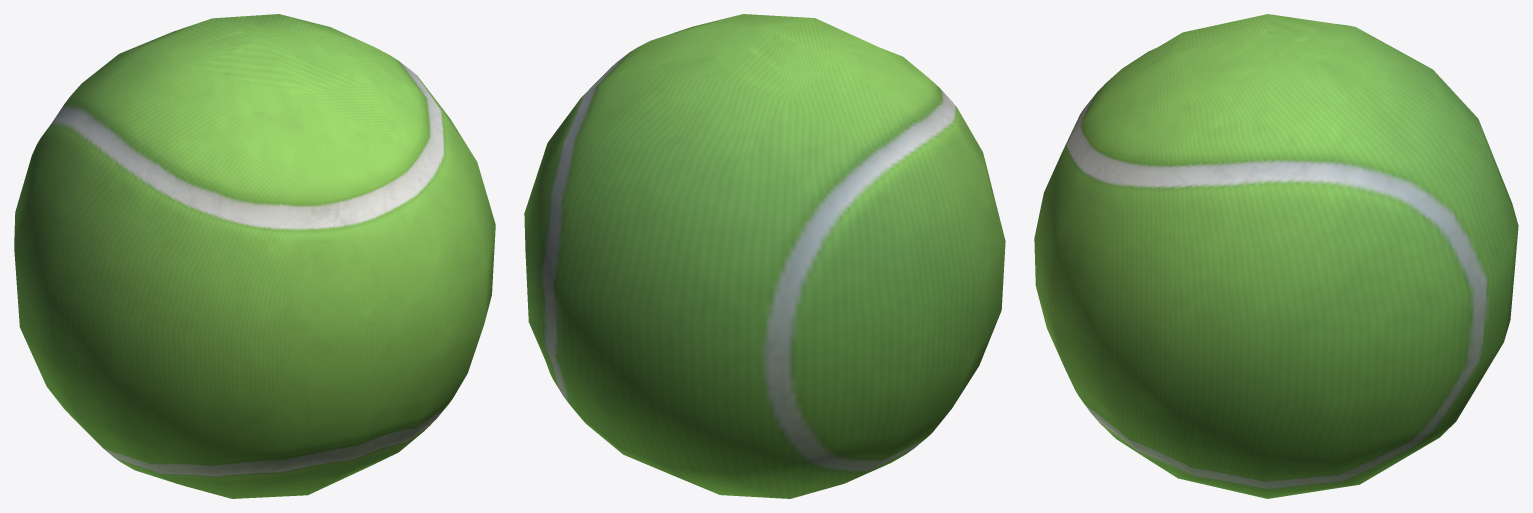
File: ball.fbx
The picture shows the model from 3 angles, left to right: view 1: azimuth 30°, elevation 25°; view 2: azimuth 150°, elevation 25°; view 3: azimuth 270°, elevation 25°; orthographic projection.
Visible parts, largest first — view 1: tennisball_low; view 2: tennisball_low; view 3: tennisball_low.
Part boxes in pixels (left/top/right/bottom): tennisball_low: left=14, top=14, right=495, bottom=498; tennisball_low: left=524, top=14, right=1005, bottom=498; tennisball_low: left=1034, top=14, right=1518, bottom=498.
Bounding box in the file's own units: 19.98 × 20.13 × 20.01.
1 material, 1 textured.
